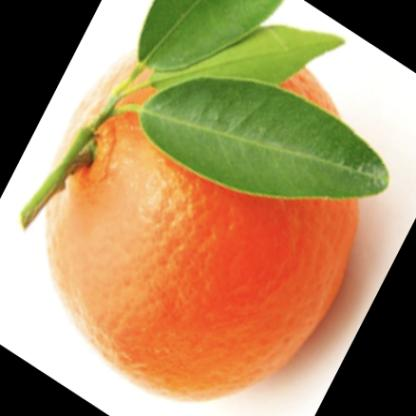fresh: (37, 17, 365, 403)
